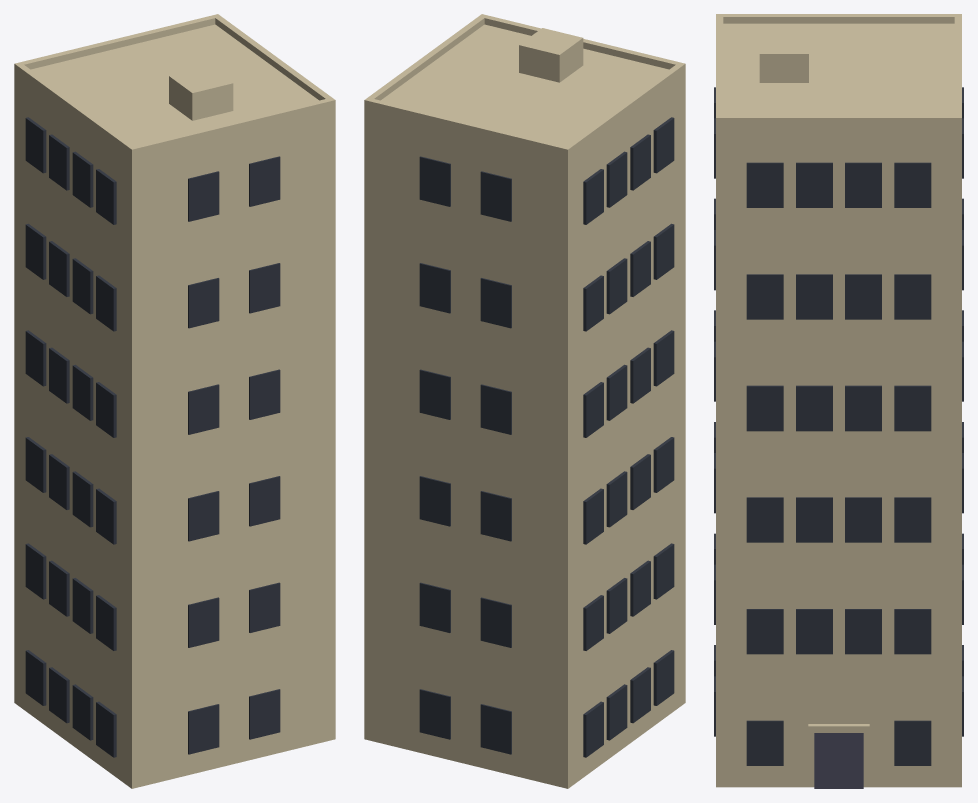
File: Buildind中1.fbx
3 views of the same model, side by side, from view 1: azimuth 30°, elevation 25°; view 2: azimuth 150°, elevation 25°; view 3: azimuth 270°, elevation 25° (orthographic). The views are drawn at different scales.
Parts seen in each view (by area): view 1: BuildingBody; view 2: BuildingBody; view 3: BuildingBody.
Part boxes in pixels (x1,y1,x2,y2): BuildingBody: (14, 14, 335, 788); BuildingBody: (364, 14, 685, 788); BuildingBody: (714, 14, 963, 788).
Size of the model in its own units: 1042 by 3100 by 1015.
